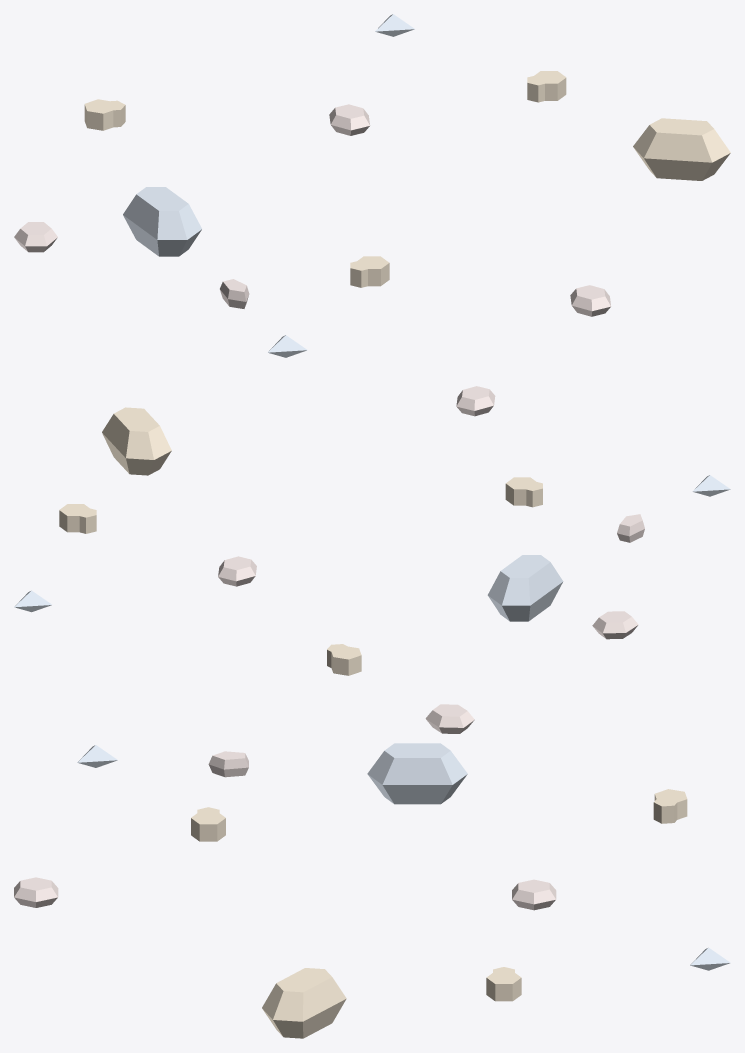
The model's file is Pebbles.fbx.
3 renders of one model, top to bottom at view 1: azimuth 30°, elevation 25°; view 2: azimuth 150°, elevation 25°; view 3: azimuth 270°, elevation 25°, orthographic. The views are drawn at different scales.
Parts seen in each view (by area): view 1: Pebbles; view 2: Pebbles; view 3: Pebbles.
Part boxes in pixels (x1,y1,x2,y2): Pebbles: (14, 14, 730, 357); Pebbles: (14, 386, 730, 675); Pebbles: (14, 704, 730, 1038).
Size of the model in its own units: 4.61 by 0.32 by 4.49.
